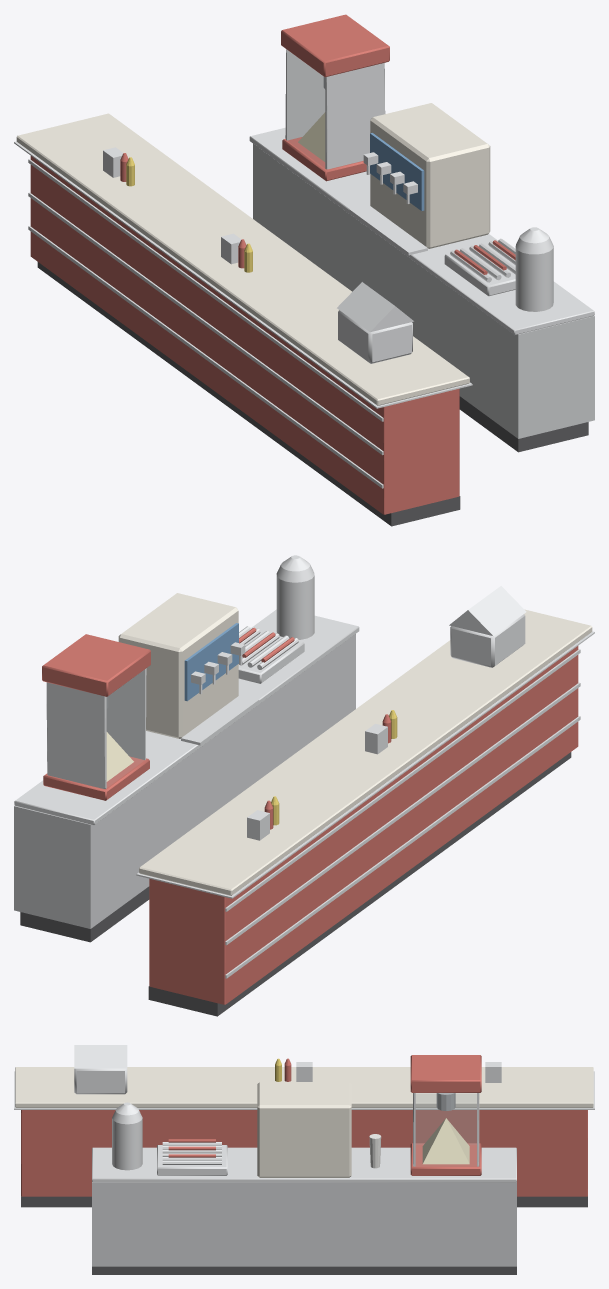
Rendered from snack_counter.glb.
The picture shows the model from 3 angles, top to bottom: view 1: azimuth 30°, elevation 25°; view 2: azimuth 150°, elevation 25°; view 3: azimuth 270°, elevation 25°; orthographic projection. The views are drawn at different scales.
Parts seen in each view (by area): view 1: snack_counter_tile_r, snack_counter_cream, snack_counter_chrome, snack_counter_metal, snack_counter_dark, snack_counter_glass, snack_counter_soda_b, snack_counter_pop; view 2: snack_counter_tile_r, snack_counter_cream, snack_counter_chrome, snack_counter_metal, snack_counter_dark, snack_counter_glass, snack_counter_soda_b, snack_counter_pop; view 3: snack_counter_metal, snack_counter_tile_r, snack_counter_cream, snack_counter_chrome, snack_counter_dark, snack_counter_glass, snack_counter_pop, snack_counter_paint_w, snack_counter_steel.
Part boxes in pixels (<box>): snack_counter_tile_r: <box>30,14,515,514</box>; snack_counter_cream: <box>16,103,490,405</box>; snack_counter_chrome: <box>14,49,594,488</box>; snack_counter_metal: <box>253,144,594,438</box>; snack_counter_dark: <box>37,262,588,526</box>; snack_counter_glass: <box>287,51,324,167</box>; snack_counter_soda_b: <box>370,133,424,210</box>; snack_counter_pop: <box>298,112,325,161</box>; snack_counter_tile_r: <box>42,627,578,1004</box>; snack_counter_cream: <box>118,593,592,895</box>; snack_counter_chrome: <box>14,555,594,978</box>; snack_counter_metal: <box>14,634,355,928</box>; snack_counter_dark: <box>20,752,571,1016</box>; snack_counter_glass: <box>107,670,144,786</box>; snack_counter_soda_b: <box>184,623,238,701</box>; snack_counter_pop: <box>106,732,133,781</box>; snack_counter_metal: <box>92,1182,516,1266</box>; snack_counter_tile_r: <box>21,1055,587,1196</box>; snack_counter_cream: <box>15,1067,593,1177</box>; snack_counter_chrome: <box>14,1045,594,1182</box>; snack_counter_dark: <box>21,1196,587,1274</box>; snack_counter_glass: <box>416,1093,476,1165</box>; snack_counter_pop: <box>422,1118,469,1164</box>; snack_counter_paint_w: <box>369,1134,381,1168</box>; snack_counter_steel: <box>436,1093,455,1110</box>.
Size of the model in its own units: 2.09 by 1.82 by 4.92.
